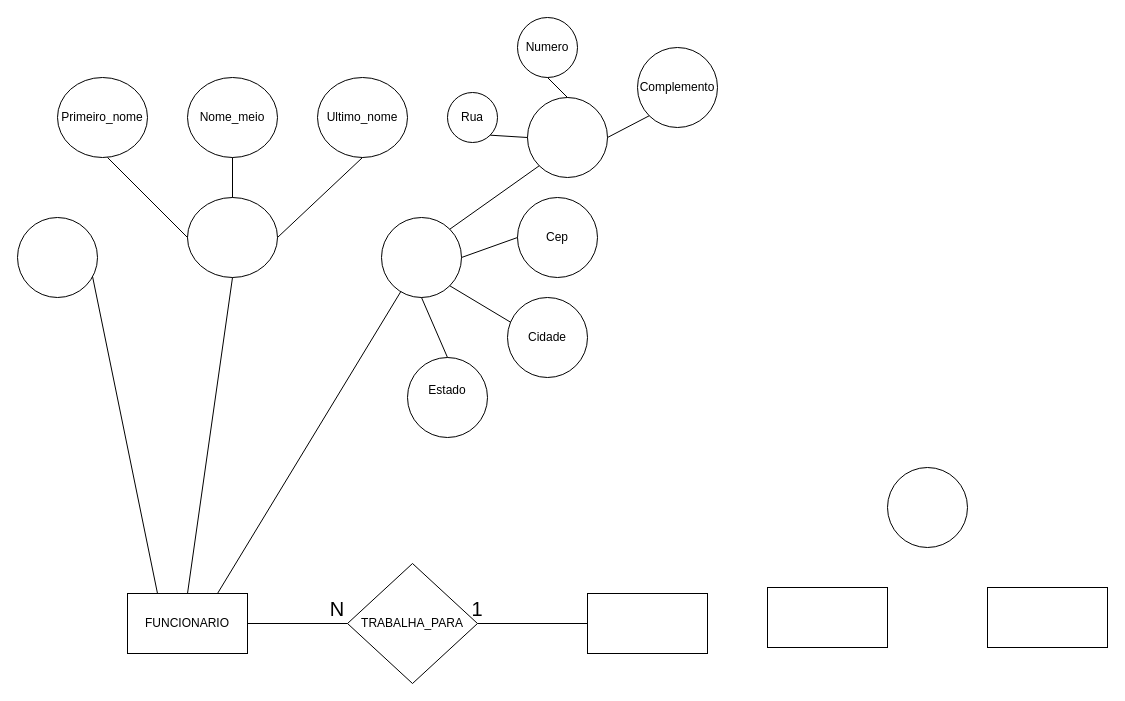
Some shapes in this 1125 by 701 pixel diagram are drawn without their labels. The centre of each missing label's shape, as x and y in pixels:
Cpf: pixel 57 257
DEPARTAMENTO: pixel 647 623
Endereco: pixel 421 257
Logradouro: pixel 567 137
Nome: pixel 232 237
Usuario: pixel 927 507
